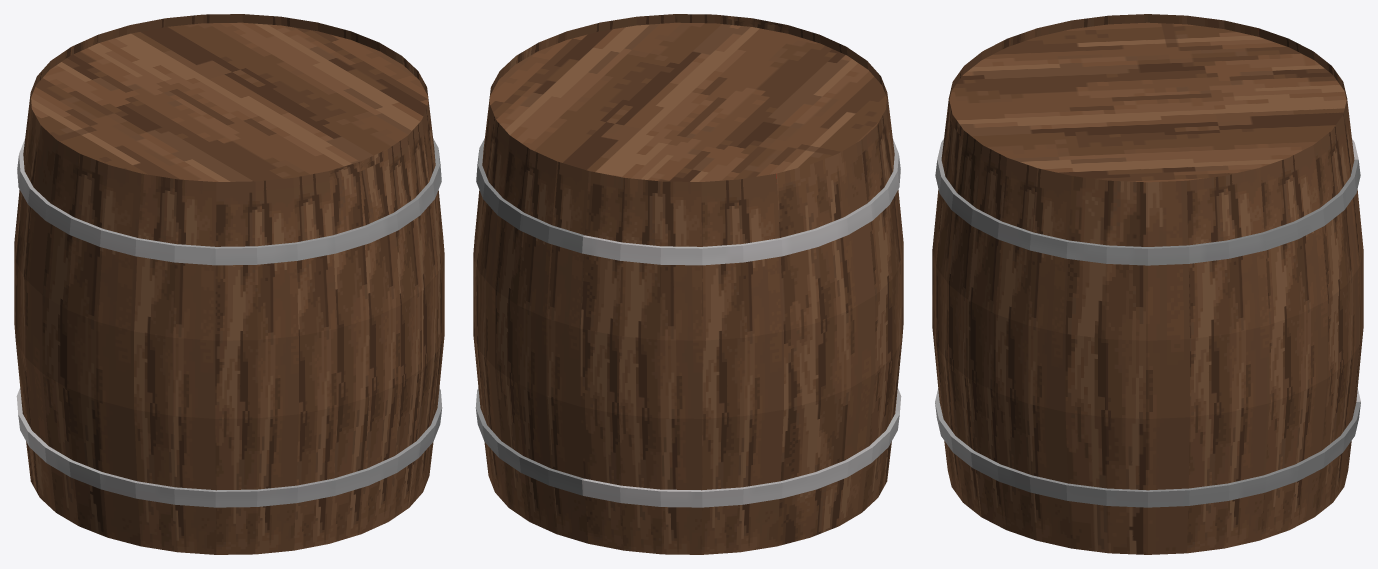
The model's file is bigbochka.fbx.
3 renders of one model, left to right at view 1: azimuth 30°, elevation 25°; view 2: azimuth 150°, elevation 25°; view 3: azimuth 270°, elevation 25°, orthographic.
Visible parts, largest first — view 1: Цилиндр; view 2: Цилиндр; view 3: Цилиндр.
Part boxes in pixels (box(x1,y1,x2,y2)): Цилиндр: box(14, 14, 444, 554); Цилиндр: box(473, 14, 903, 554); Цилиндр: box(932, 14, 1363, 554).
Bounding box in the file's own units: 1.08 × 1.03 × 1.08.
